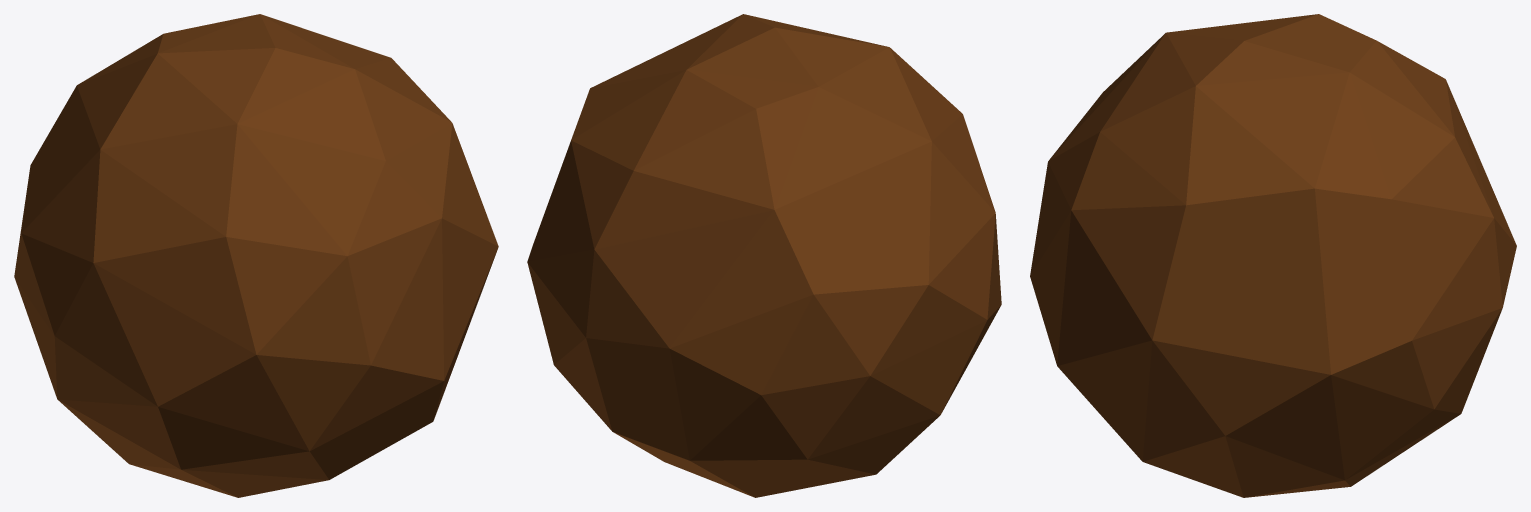
The model's file is bolt.fbx.
The picture shows the model from 3 angles, left to right: view 1: azimuth 30°, elevation 25°; view 2: azimuth 150°, elevation 25°; view 3: azimuth 270°, elevation 25°; orthographic projection.
Parts seen in each view (by area): view 1: SHIP.016; view 2: SHIP.016; view 3: SHIP.016.
Part boxes in pixels (<box>): SHIP.016: <box>14,14,498,497</box>; SHIP.016: <box>527,14,1001,497</box>; SHIP.016: <box>1030,14,1516,497</box>.
Size of the model in its own units: 241 by 240 by 241.
